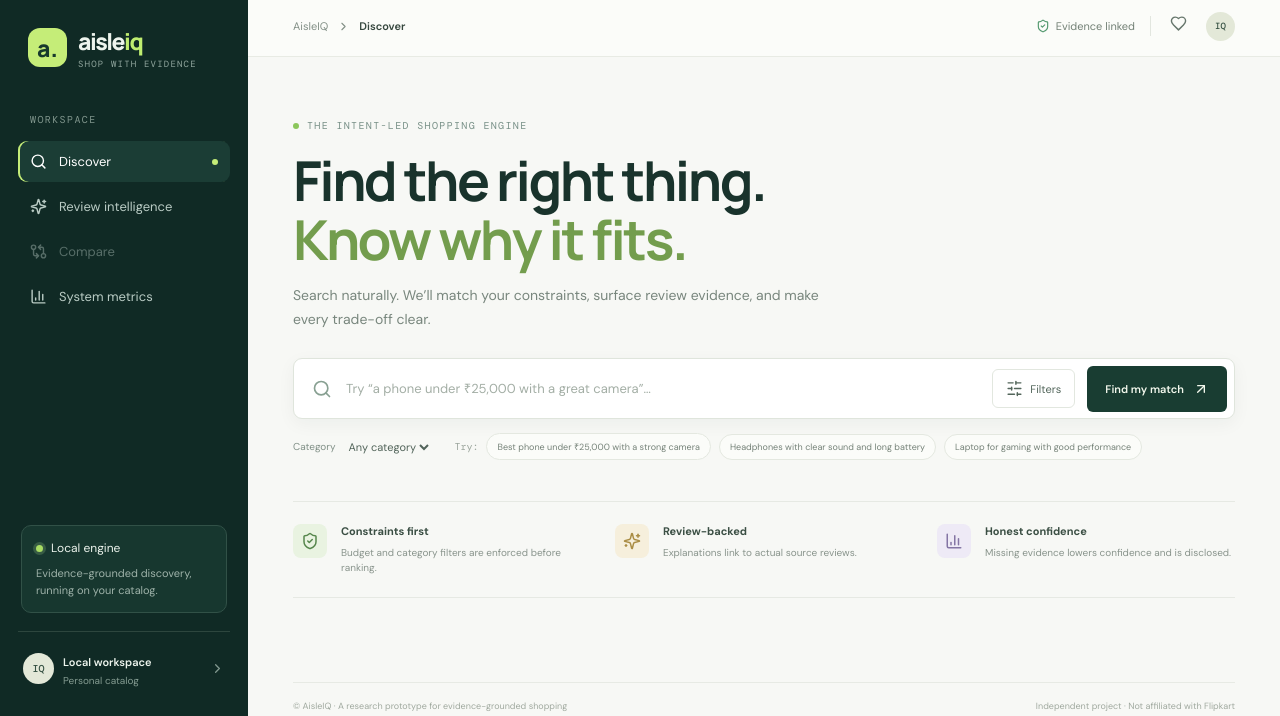
Test case: AisleIQ discovery flow › searches and opens product details with traceable review text
Type "phone" into the field named "describe what you are looking for".
click(662, 389); type("phone")  # box [344,380,980,398]
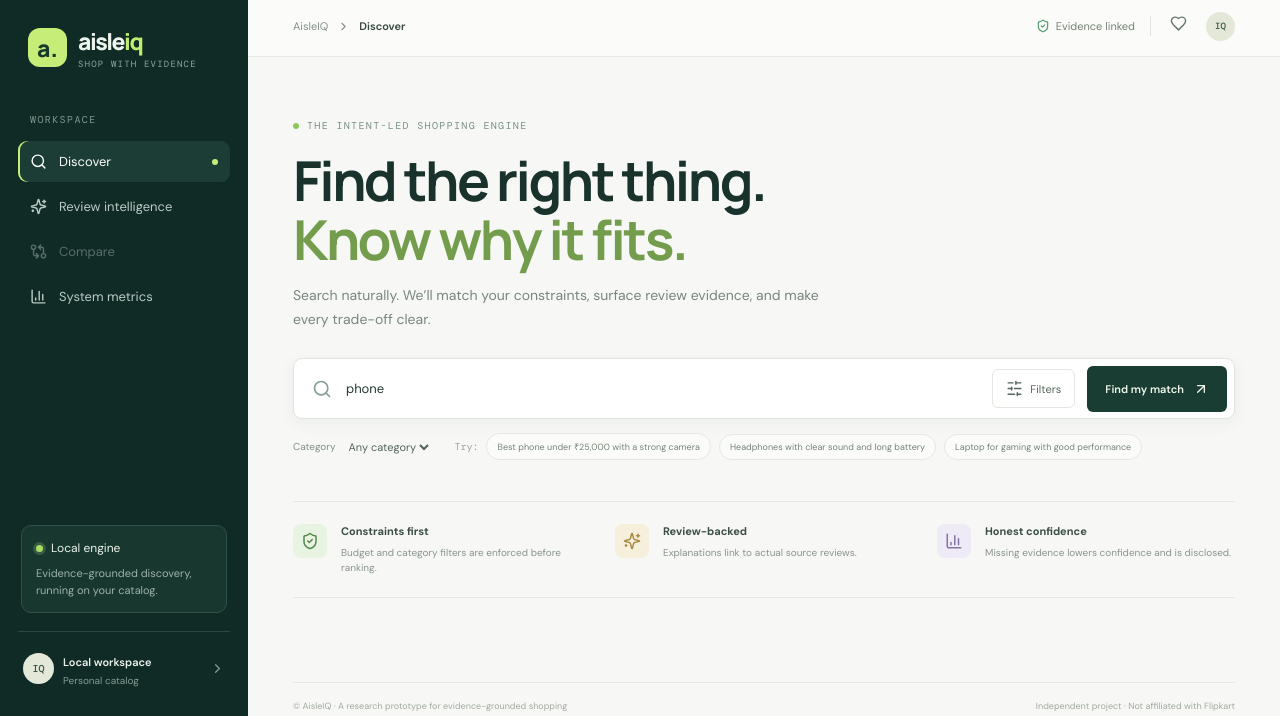
Click the button "Find my match".
click(1157, 389)  # box [1087,366,1227,412]
(page scrolled)
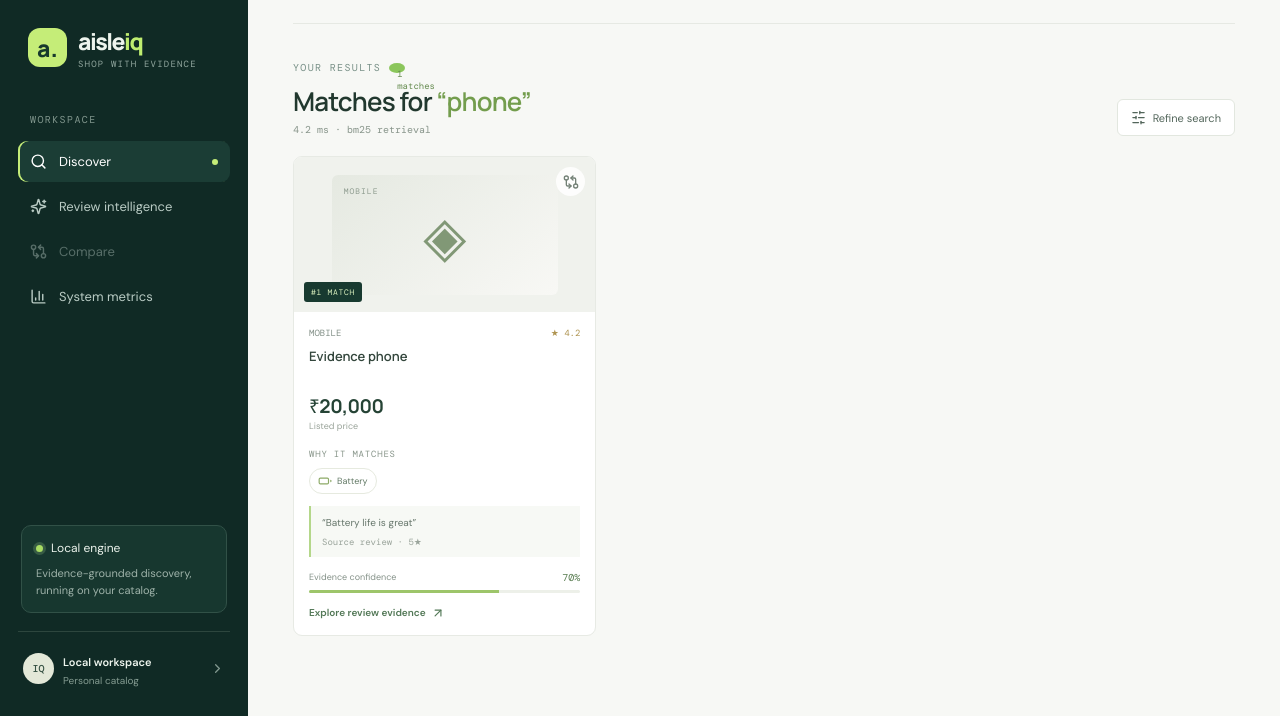
Now the button "Evidence phone" is shown
Click the button "Evidence phone".
click(358, 357)  # box [309,348,407,366]
(page scrolled)
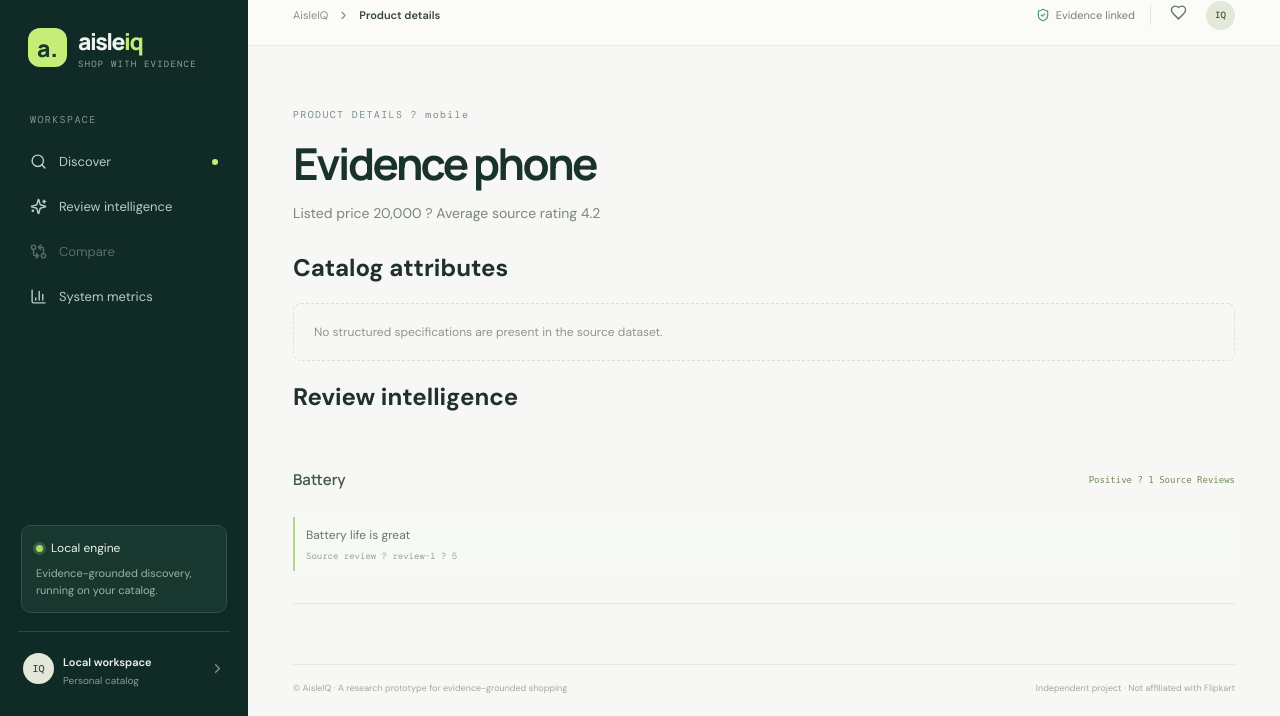
Now the text "Battery life is great" is shown, box [306,527,410,543]
Now the heading "Catalog attributes" is shown, box [293,252,508,283]
Now the text "Source review ? review-1 ? 5" is shown, box [306,550,457,562]
